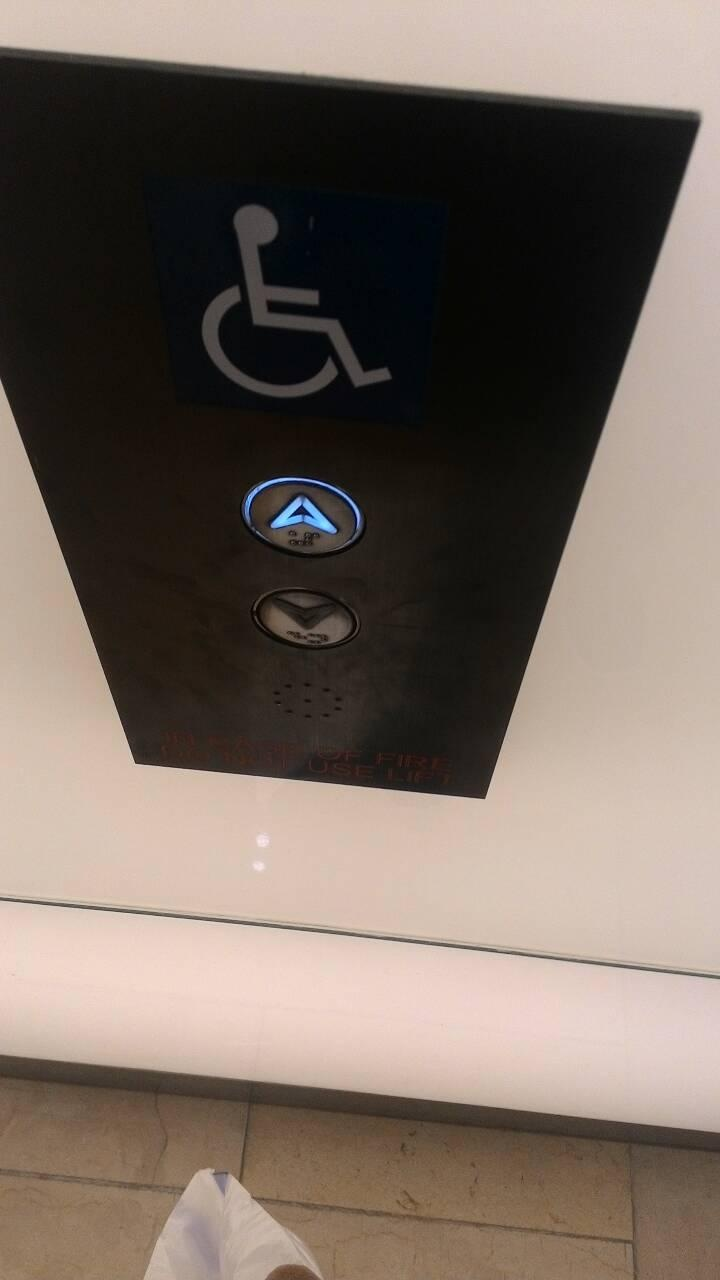CH: (183, 193, 399, 402)
down: (245, 579, 364, 654)
up: (238, 471, 365, 560)
